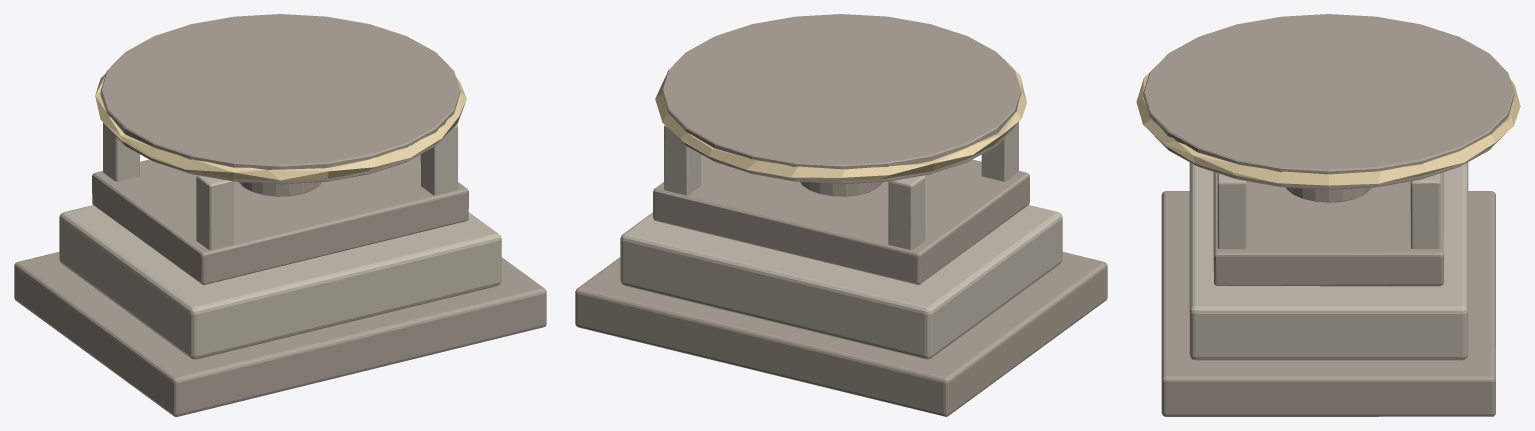
File: 25-Ruinas-Templos_altar_ritual.glb
The picture shows the model from 3 angles, left to right: view 1: azimuth 30°, elevation 25°; view 2: azimuth 150°, elevation 25°; view 3: azimuth 270°, elevation 25°; orthographic projection. The views are drawn at different scales.
Parts seen in each view (by area): view 1: SM_Altar_M_Piedra_Altar_Osc, SM_Altar_M_Piedra_Altar, SM_Altar_M_Talla_Altar; view 2: SM_Altar_M_Piedra_Altar_Osc, SM_Altar_M_Piedra_Altar, SM_Altar_M_Talla_Altar; view 3: SM_Altar_M_Piedra_Altar_Osc, SM_Altar_M_Piedra_Altar, SM_Altar_M_Talla_Altar.
Boxes of the visible parts, x1,y1,x2,y2 form: SM_Altar_M_Piedra_Altar_Osc: [14, 14, 546, 416]; SM_Altar_M_Piedra_Altar: [59, 122, 501, 359]; SM_Altar_M_Talla_Altar: [95, 73, 466, 180]; SM_Altar_M_Piedra_Altar_Osc: [575, 14, 1107, 416]; SM_Altar_M_Piedra_Altar: [620, 122, 1062, 359]; SM_Altar_M_Talla_Altar: [655, 59, 1026, 180]; SM_Altar_M_Piedra_Altar_Osc: [1143, 14, 1514, 416]; SM_Altar_M_Piedra_Altar: [1189, 162, 1468, 360]; SM_Altar_M_Talla_Altar: [1136, 73, 1520, 185].
Bounding box in the file's own units: 1.2 × 0.6898 × 1.03.
